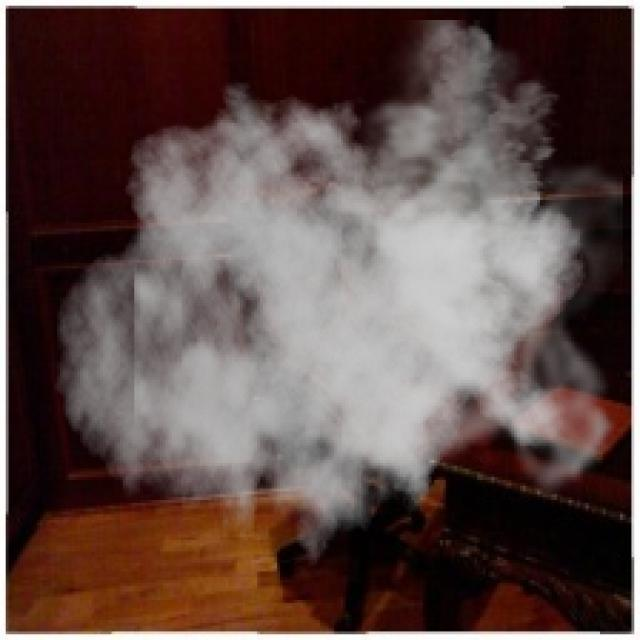Smoke: (54, 20, 623, 589)
